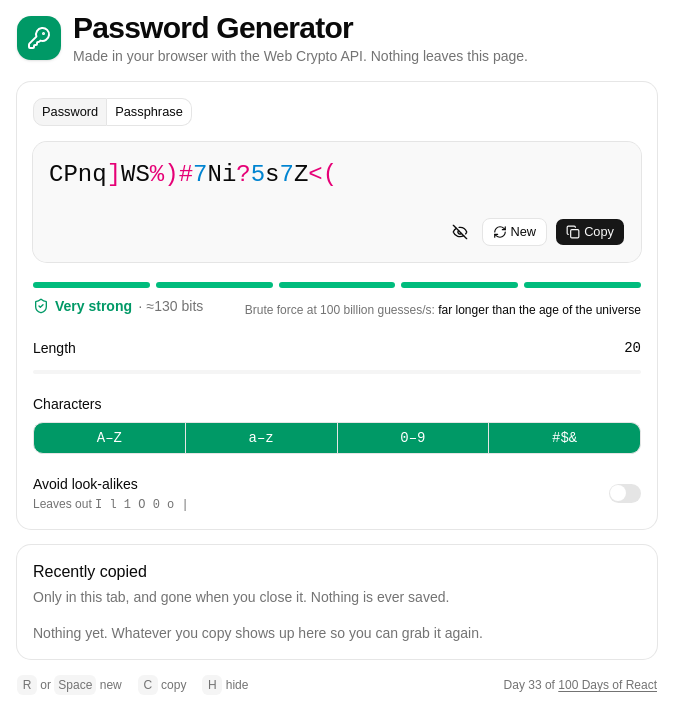
copying › says so when the clipboard is unavailable
Click the button "Copy".
click(590, 232)  # box left=555, top=218, right=625, bottom=246
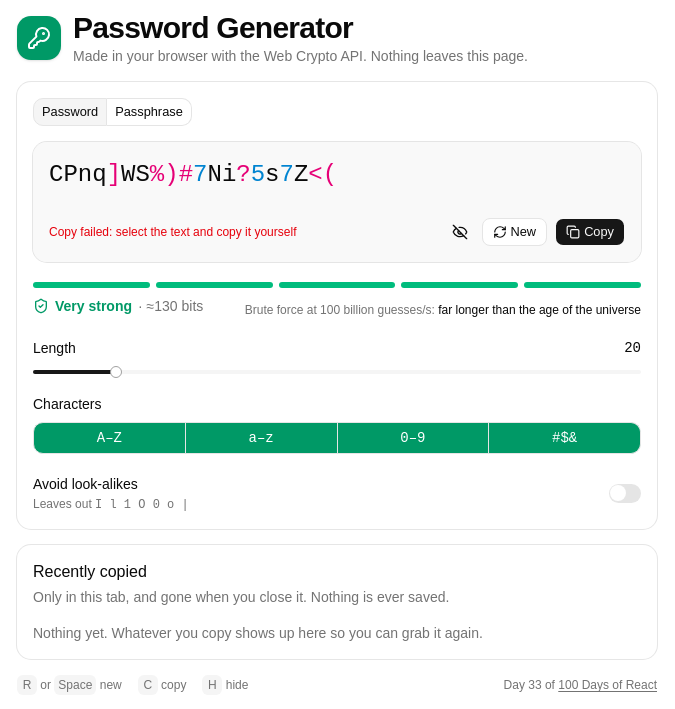
Expected: the list "Recently copied" is not shown
Expected: the text "Copy failed: select the text and copy it yourself" is shown, left=49, top=225, right=296, bottom=239
